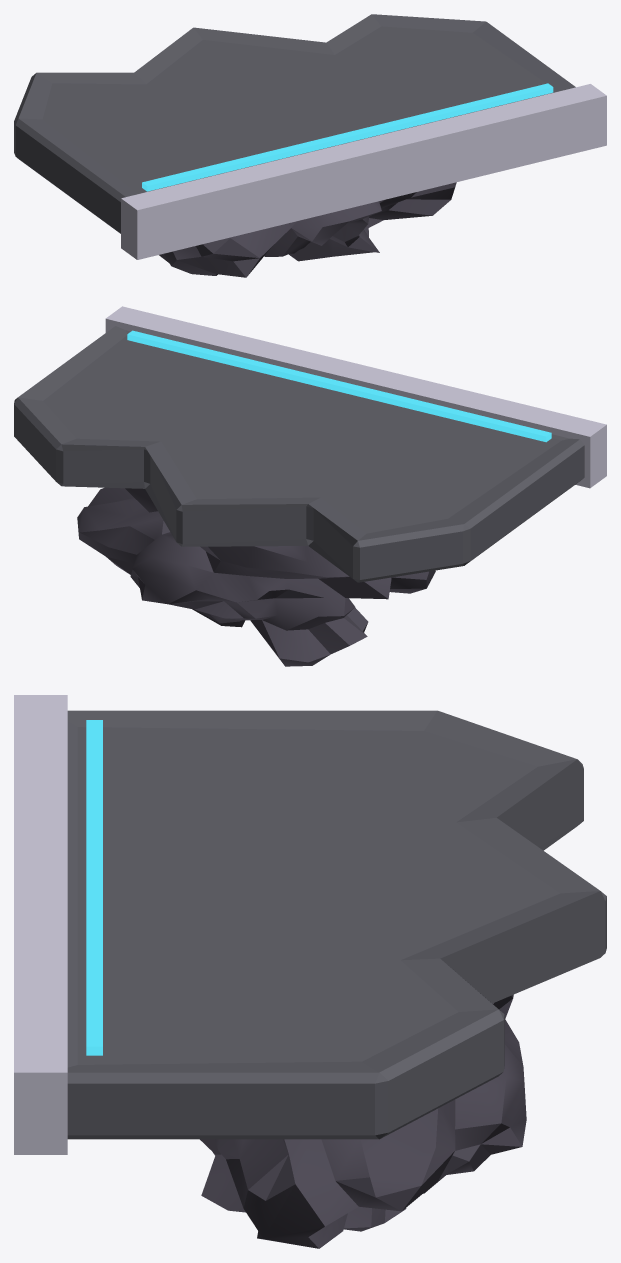
The model's file is Debris_02_quest.glb.
3 views of the same model, one above another, from view 1: azimuth 30°, elevation 25°; view 2: azimuth 150°, elevation 25°; view 3: azimuth 270°, elevation 25° (orthographic). The views are drawn at different scales.
Parts seen in each view (by area): view 1: Debris_02_Slab, Debris_02_Rock, Debris_02_Glow; view 2: Debris_02_Slab, Debris_02_Rock, Debris_02_Glow; view 3: Debris_02_Slab, Debris_02_Rock, Debris_02_Glow.
Part boxes in pixels (x1,y1,x2,y2): Debris_02_Slab: (14,14,606,259); Debris_02_Rock: (159,182,456,277); Debris_02_Glow: (142,83,553,191); Debris_02_Slab: (14,306,606,582); Debris_02_Rock: (77,487,435,666); Debris_02_Glow: (127,330,551,442); Debris_02_Slab: (14,695,606,1154); Debris_02_Rock: (200,994,526,1248); Debris_02_Glow: (86,720,102,1055).
Size of the model in its own units: 2.66 by 0.9987 by 1.77.
